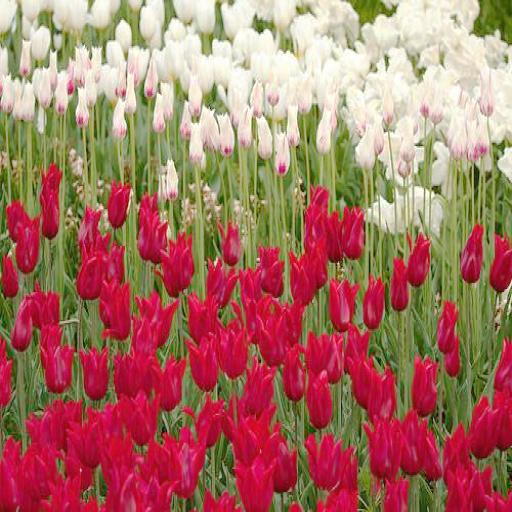tulip: (304, 430, 355, 490), (163, 423, 206, 492), (232, 452, 280, 509), (135, 284, 177, 348), (156, 229, 194, 294), (118, 386, 163, 440), (364, 412, 402, 475), (66, 408, 102, 464), (217, 321, 252, 377), (184, 334, 220, 386), (37, 342, 76, 390), (137, 208, 169, 264), (244, 357, 278, 409), (79, 343, 110, 400), (469, 392, 496, 455), (286, 247, 316, 303), (306, 364, 332, 428), (412, 349, 438, 412), (328, 275, 358, 328), (206, 252, 237, 303), (15, 212, 40, 272), (407, 226, 432, 284), (76, 244, 102, 298), (389, 254, 412, 315), (346, 352, 373, 403), (490, 229, 512, 291), (106, 175, 131, 229), (340, 203, 365, 257), (11, 296, 36, 350), (282, 343, 303, 404), (362, 274, 386, 324), (460, 223, 481, 280), (218, 214, 242, 263), (256, 238, 280, 286), (39, 186, 60, 235)
